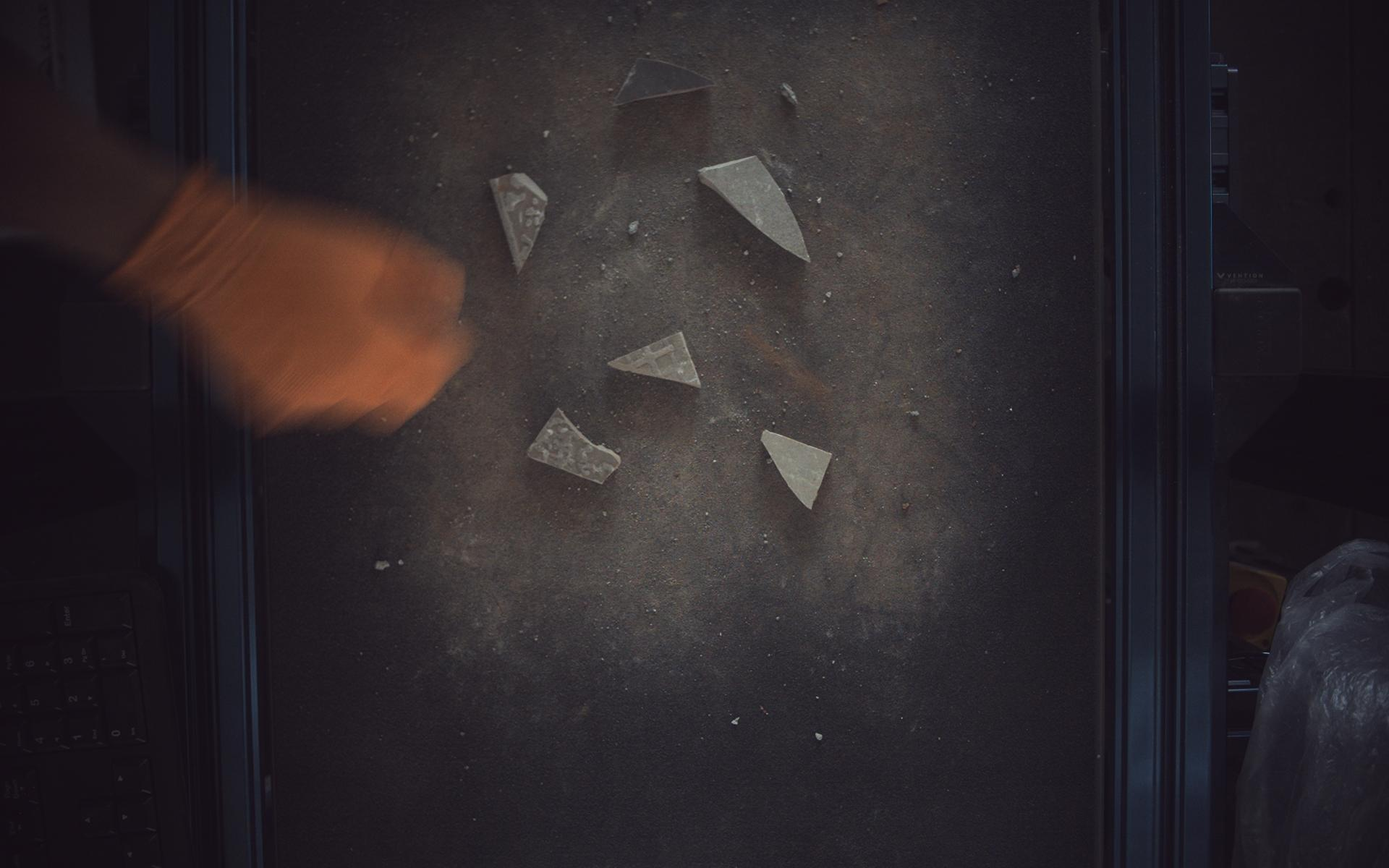tile: (700, 155, 812, 261), (528, 408, 621, 484), (489, 171, 548, 273), (763, 430, 833, 510), (610, 331, 702, 388), (615, 56, 715, 105)
